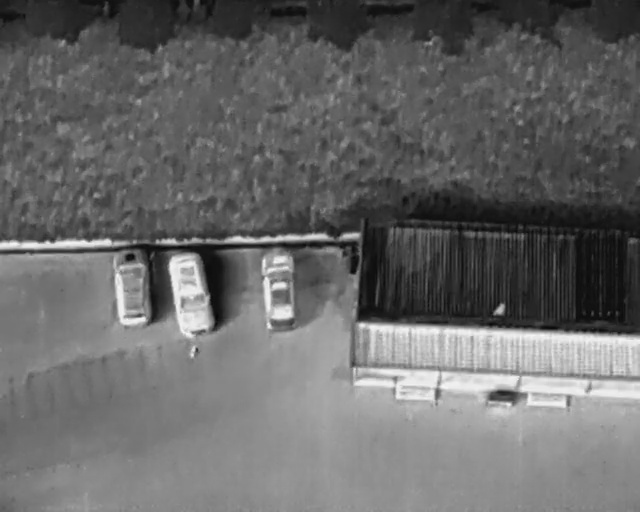Car: (163, 248, 221, 342), (111, 250, 152, 326), (262, 247, 297, 330)
Person: (188, 345, 198, 358)
